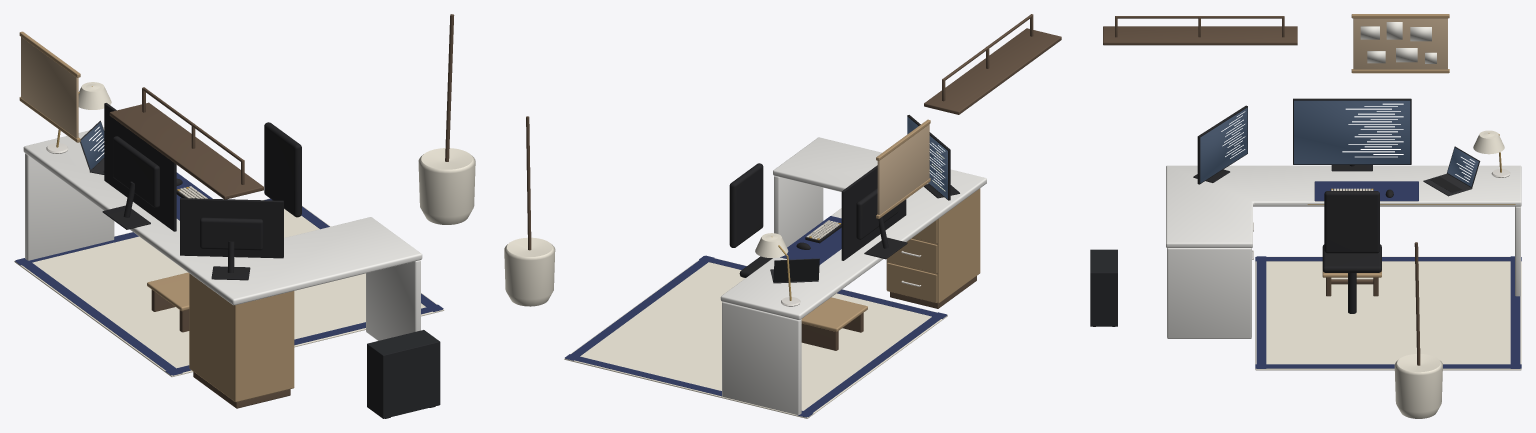
Rendered from room-study.glb.
3 renders of one model, left to right at view 1: azimuth 30°, elevation 25°; view 2: azimuth 150°, elevation 25°; view 3: azimuth 270°, elevation 25°, orthographic. The views are drawn at different scales.
Visible parts, largest first — view 1: study__milky veined marble, study__linen, study__matte black device, study__pale oak, study__pc black steel, study_wall_record_ledge__honey ash, study__cork board, study__indigo textile, study_placeholder_study-aeron, study__honey ash, study_wall_record_backrail__honey ash, study__monitor screen glass; view 2: study__milky veined marble, study__linen, study__pale oak, study__indigo textile, study__matte black device, study_wall_record_ledge__honey ash, study__cork board, study_placeholder_study-aeron, study__honey ash, study__black magnesium laptop, study__monitor screen glass, study_wall_record_backrail__honey ash; view 3: study__linen, study__milky veined marble, study__monitor screen glass, study__indigo textile, study_placeholder_study-aeron, study_wall_record_ledge__honey ash, study__cork board, study__pc black steel, study__matte black device, study__sketch paper, study__pale oak, study__screen code light (+3 smaller).
Boxes of the visible parts, left/top/right/bottom form: study__milky veined marble: left=23, top=127, right=422, bottom=340; study__linen: left=14, top=82, right=475, bottom=376; study__matte black device: left=102, top=103, right=435, bottom=418; study__pale oak: left=19, top=31, right=294, bottom=402; study__pc black steel: left=367, top=330, right=440, bottom=418; study_wall_record_ledge__honey ash: left=109, top=102, right=263, bottom=199; study__cork board: left=21, top=37, right=78, bottom=138; study__indigo textile: left=15, top=172, right=443, bottom=375; study_placeholder_study-aeron: left=264, top=122, right=301, bottom=217; study__honey ash: left=151, top=14, right=454, bottom=408; study_wall_record_backrail__honey ash: left=142, top=87, right=244, bottom=184; study__monitor screen glass: left=81, top=122, right=104, bottom=169; study__milky veined marble: left=720, top=137, right=986, bottom=414; study__linen: left=504, top=233, right=947, bottom=418; study__pale oak: left=801, top=119, right=980, bottom=331; study__indigo textile: left=565, top=216, right=947, bottom=417; study__matte black device: left=773, top=115, right=959, bottom=272; study_wall_record_ledge__honey ash: left=924, top=28, right=1061, bottom=114; study__cork board: left=877, top=124, right=929, bottom=214; study_placeholder_study-aeron: left=729, top=163, right=772, bottom=277; study__honey ash: left=526, top=116, right=976, bottom=350; study__black magnesium laptop: left=770, top=258, right=819, bottom=283; study__monitor screen glass: left=907, top=116, right=947, bottom=199; study_wall_record_backrail__honey ash: left=942, top=14, right=1033, bottom=101; study__linen: left=1255, top=130, right=1521, bottom=418; study__milky veined marble: left=1166, top=165, right=1521, bottom=338; study__monitor screen glass: left=1200, top=100, right=1478, bottom=186; study__indigo textile: left=1255, top=181, right=1521, bottom=368; study_placeholder_study-aeron: left=1322, top=191, right=1381, bottom=313; study_wall_record_ledge__honey ash: left=1103, top=26, right=1297, bottom=45; study__cork board: left=1353, top=18, right=1447, bottom=69; study__pc black steel: left=1090, top=249, right=1117, bottom=326; study__matte black device: left=1093, top=98, right=1461, bottom=326; study__sketch paper: left=1360, top=22, right=1436, bottom=63; study__pale oak: left=1322, top=14, right=1449, bottom=277; study__screen code light: left=1221, top=106, right=1474, bottom=182.
Size of the model in its own units: 3.5 by 2.16 by 3.57.
